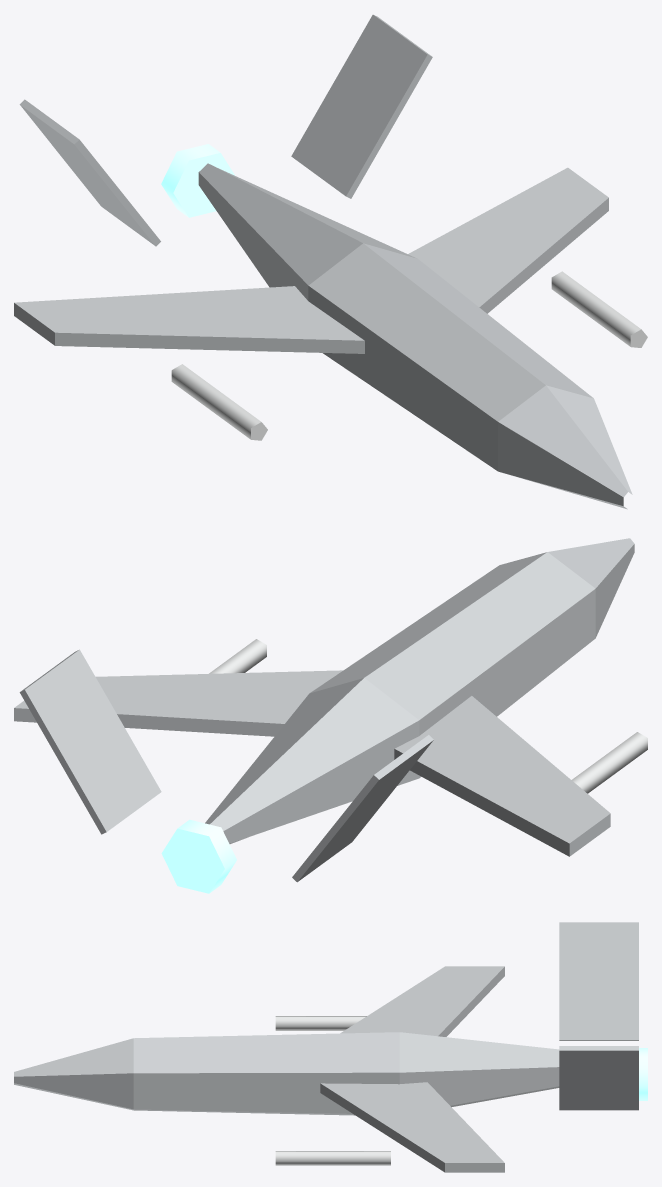
Rendered from veh_air_drone_strike_a09.glb.
The picture shows the model from 3 angles, top to bottom: view 1: azimuth 30°, elevation 25°; view 2: azimuth 150°, elevation 25°; view 3: azimuth 270°, elevation 25°; orthographic projection. The views are drawn at different scales.
Parts seen in each view (by area): view 1: body; view 2: body; view 3: body.
Boxes of the visible parts, bbox=[...] form: body: bbox=[14, 14, 647, 509]; body: bbox=[14, 538, 647, 893]; body: bbox=[14, 922, 647, 1172].
Size of what is drawn, in the model's own units: 5.25 by 1.65 by 7.15.
